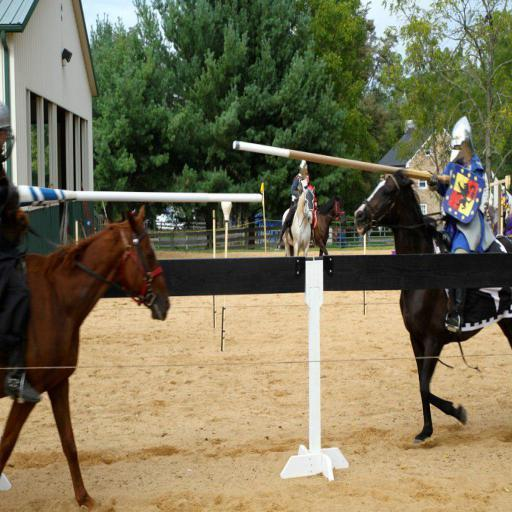horse: (0, 196, 167, 500), (352, 167, 512, 446), (281, 182, 317, 256), (312, 192, 350, 256)
